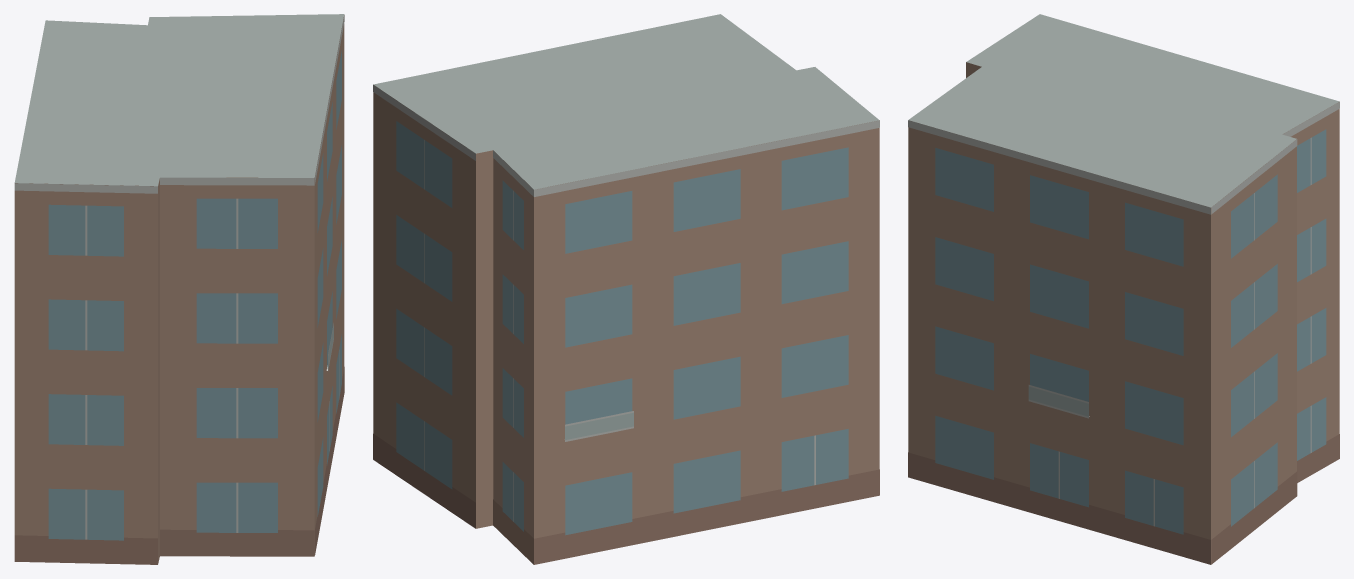
Rendered from survey-upis-32657060.glb.
3 views of the same model, side by side, from view 1: azimuth 30°, elevation 25°; view 2: azimuth 150°, elevation 25°; view 3: azimuth 270°, elevation 25° (orthographic). The views are drawn at different scales.
Parts seen in each view (by area): view 1: survey-upis-32657060.tmp; view 2: survey-upis-32657060.tmp; view 3: survey-upis-32657060.tmp.
Part boxes in pixels (bbox=[...]): survey-upis-32657060.tmp: bbox=[14, 14, 344, 564]; survey-upis-32657060.tmp: bbox=[373, 14, 879, 564]; survey-upis-32657060.tmp: bbox=[908, 14, 1339, 564].
Size of the model in its own units: 14.19 by 12.2 by 13.37.
